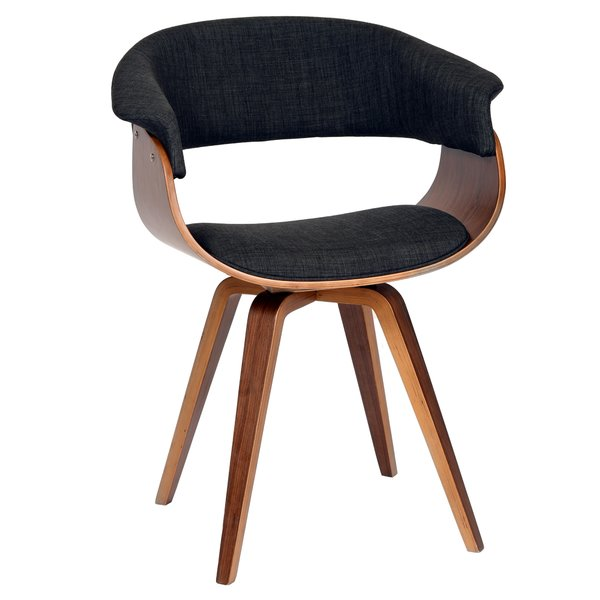chairs: (102, 13, 511, 584)
